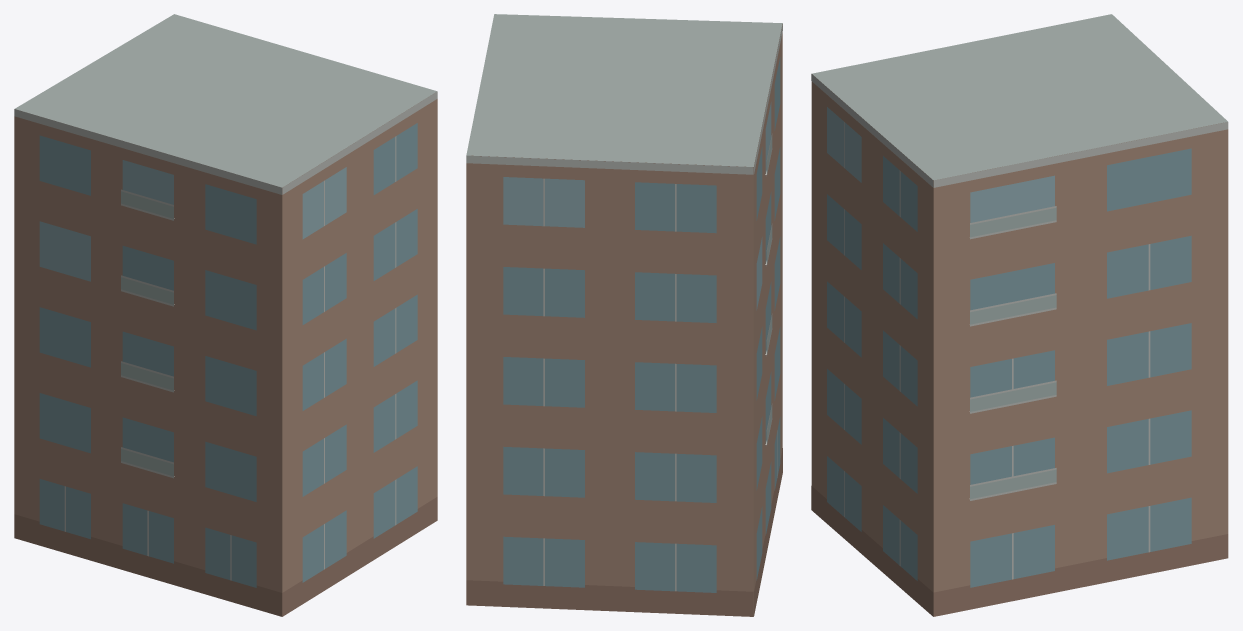
Rendered from survey-upis-32544344.glb.
The picture shows the model from 3 angles, left to right: view 1: azimuth 30°, elevation 25°; view 2: azimuth 150°, elevation 25°; view 3: azimuth 270°, elevation 25°; orthographic projection. The views are drawn at different scales.
Visible parts, largest first — view 1: survey-upis-32544344.tmp; view 2: survey-upis-32544344.tmp; view 3: survey-upis-32544344.tmp.
Boxes of the visible parts, x1=… form: survey-upis-32544344.tmp: x1=14, y1=14, x2=437, y2=616; survey-upis-32544344.tmp: x1=466, y1=14, x2=782, y2=616; survey-upis-32544344.tmp: x1=811, y1=14, x2=1228, y2=616.
Bounding box in the file's own units: 11.62 × 14.2 × 12.3.
